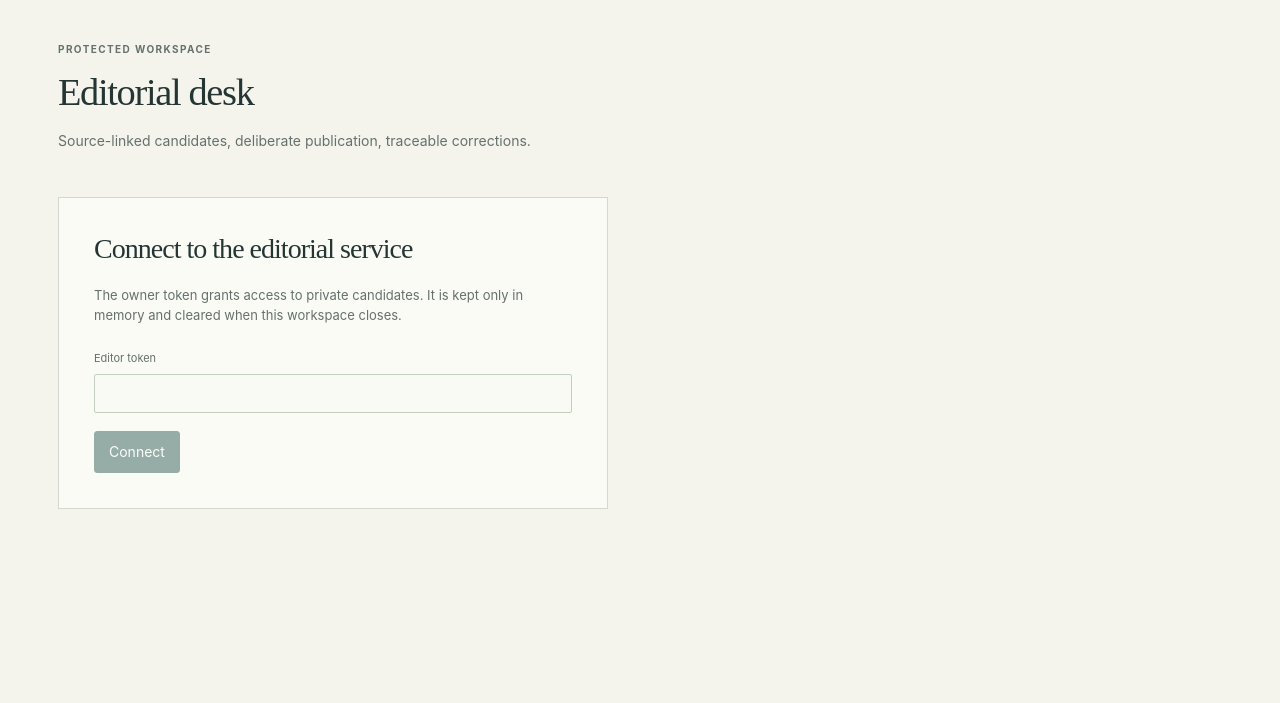
Test: authenticated editorial contract › blocks publication of unsaved edits and records deliberate review time
The width and height of the screenshot is (1280, 703).
Later steps or results of the test are not shown.
Type "test-runtime-token" into the password field labelled "Editor token" at (333, 394), box [94,374,572,413]
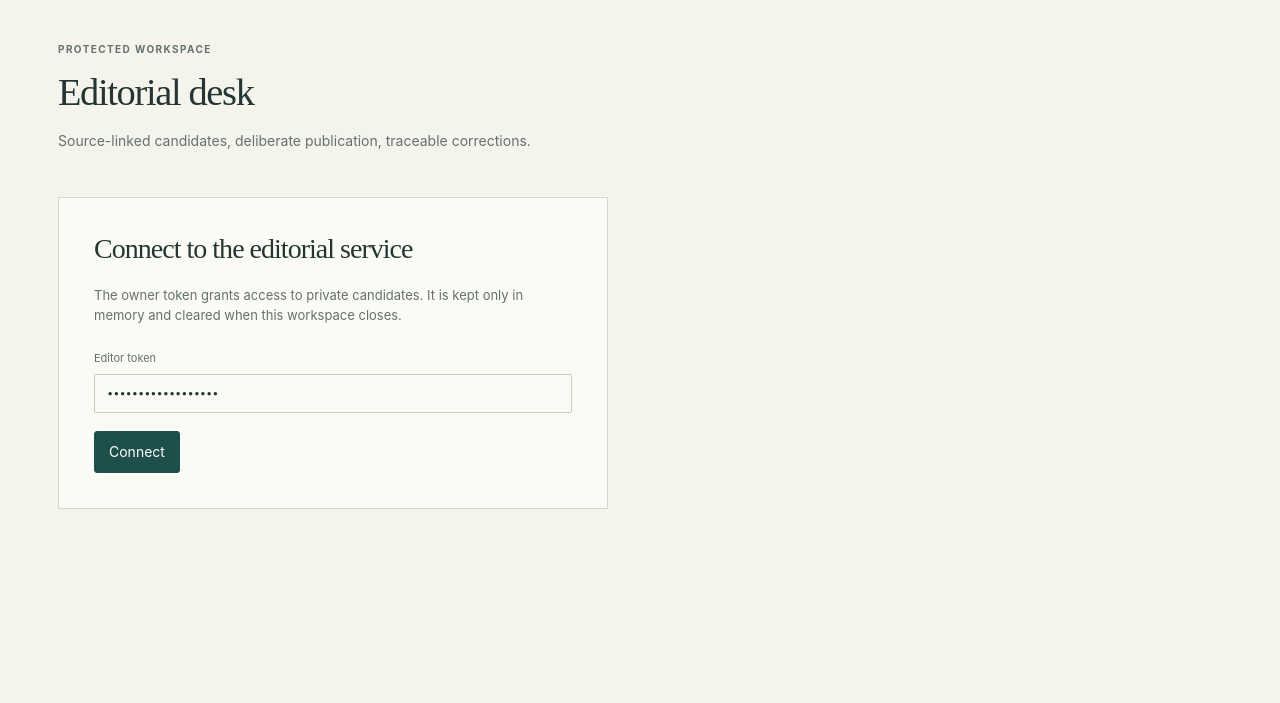
Click the button "Connect" at (137, 452), box [94,431,180,473]
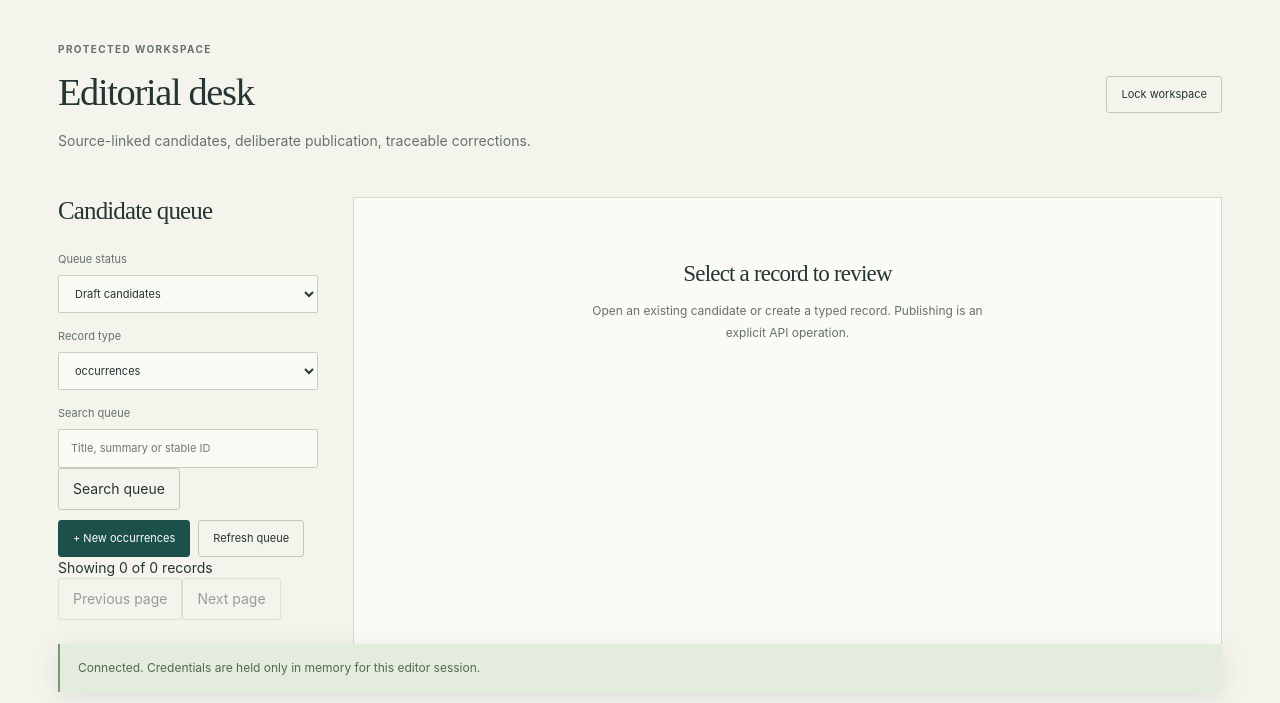
Expected: the heading "Candidate queue" is shown, [58,197,212,224]
Select "actors" in the dropdown labelled "Record type" at (188, 371), box [58,352,318,390]
(page scrolled)
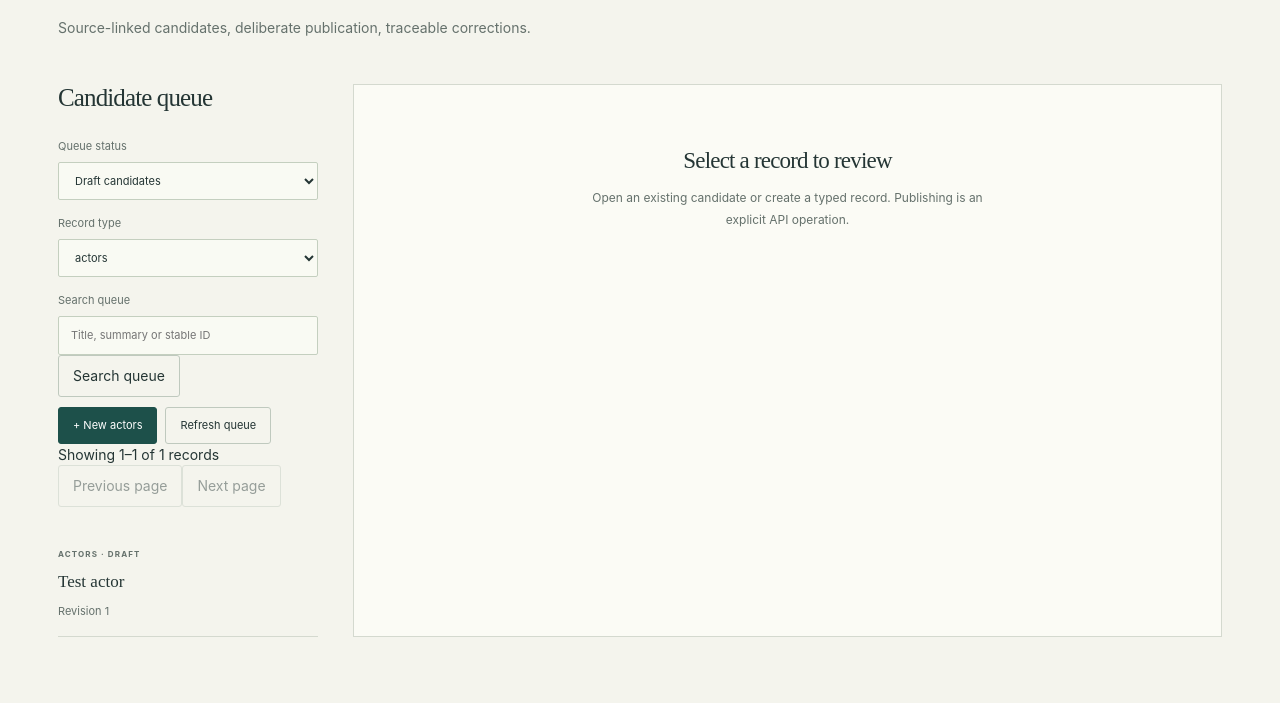
Click the button "actors · draft Test actor Revision 1" at (78, 554), box [58,532,318,637]
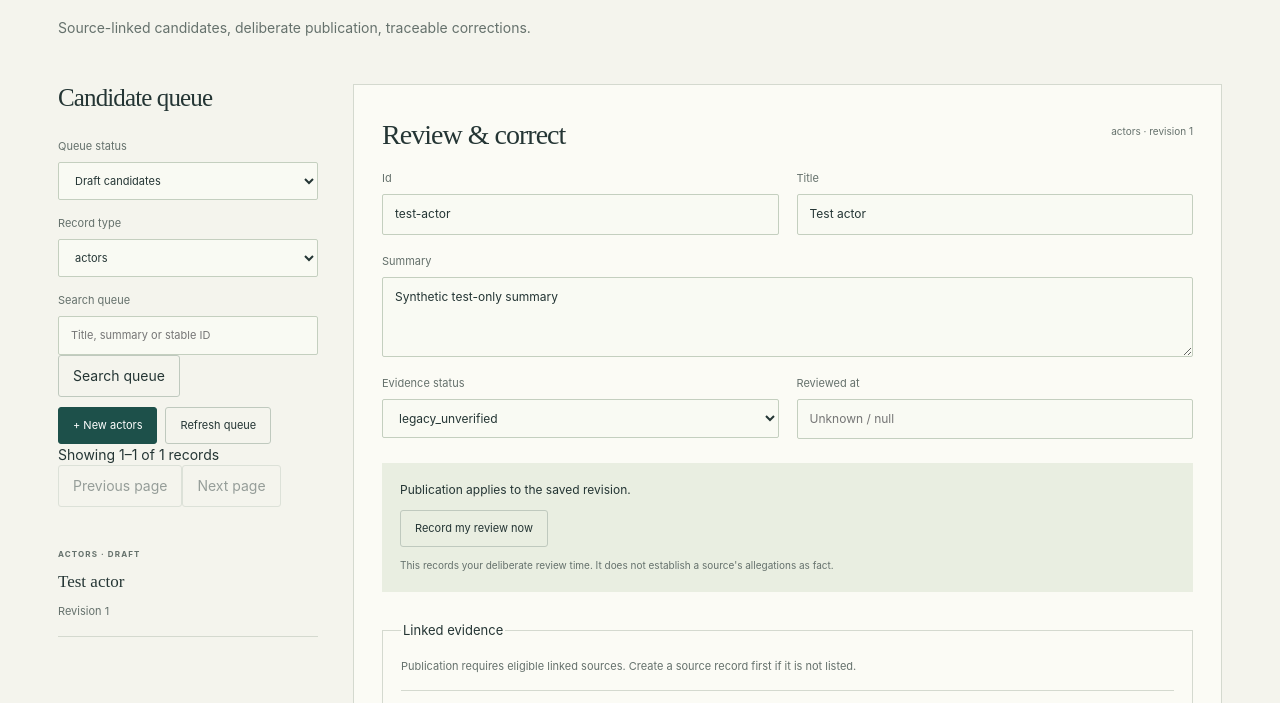
Expected: the heading "Review & correct" is shown, [382,119,565,151]
Replace the text in the field labelled "Title" with "Unsaved correction" at (995, 214), box [796,194,1193,235]
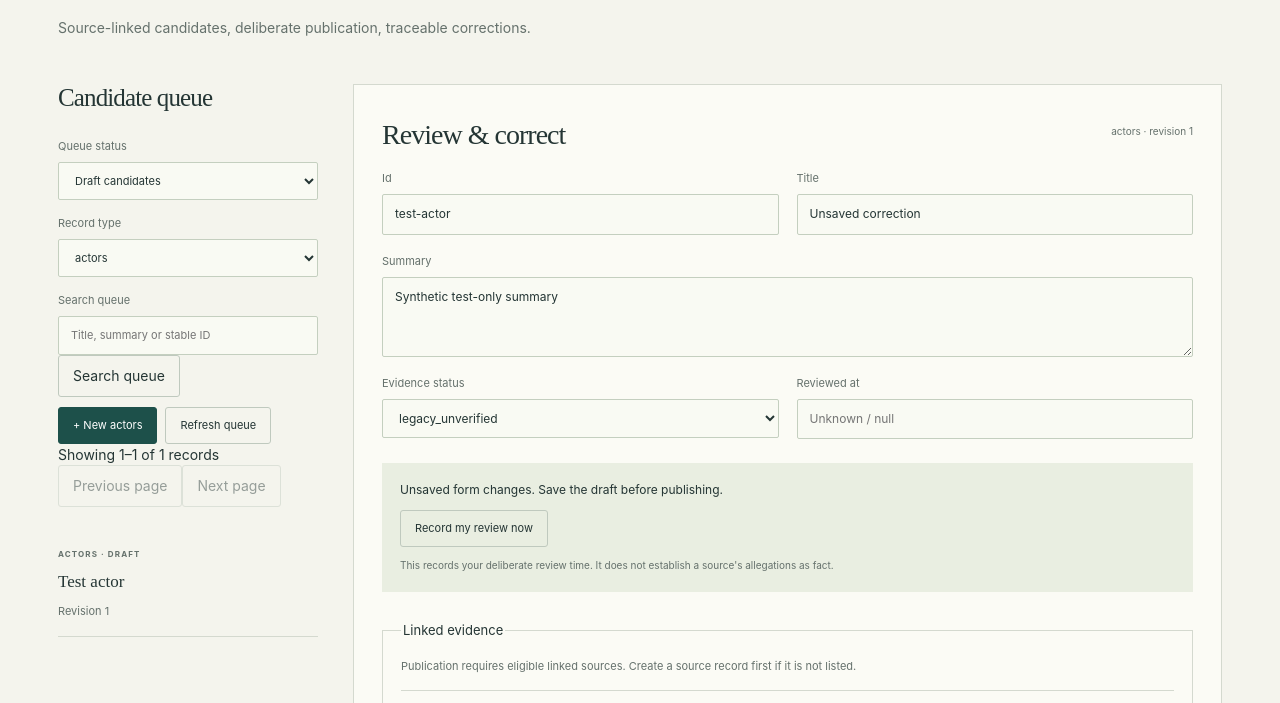
Expected: the text "Unsaved form changes. Save the draft before publishing." is shown, [400,482,723,497]
